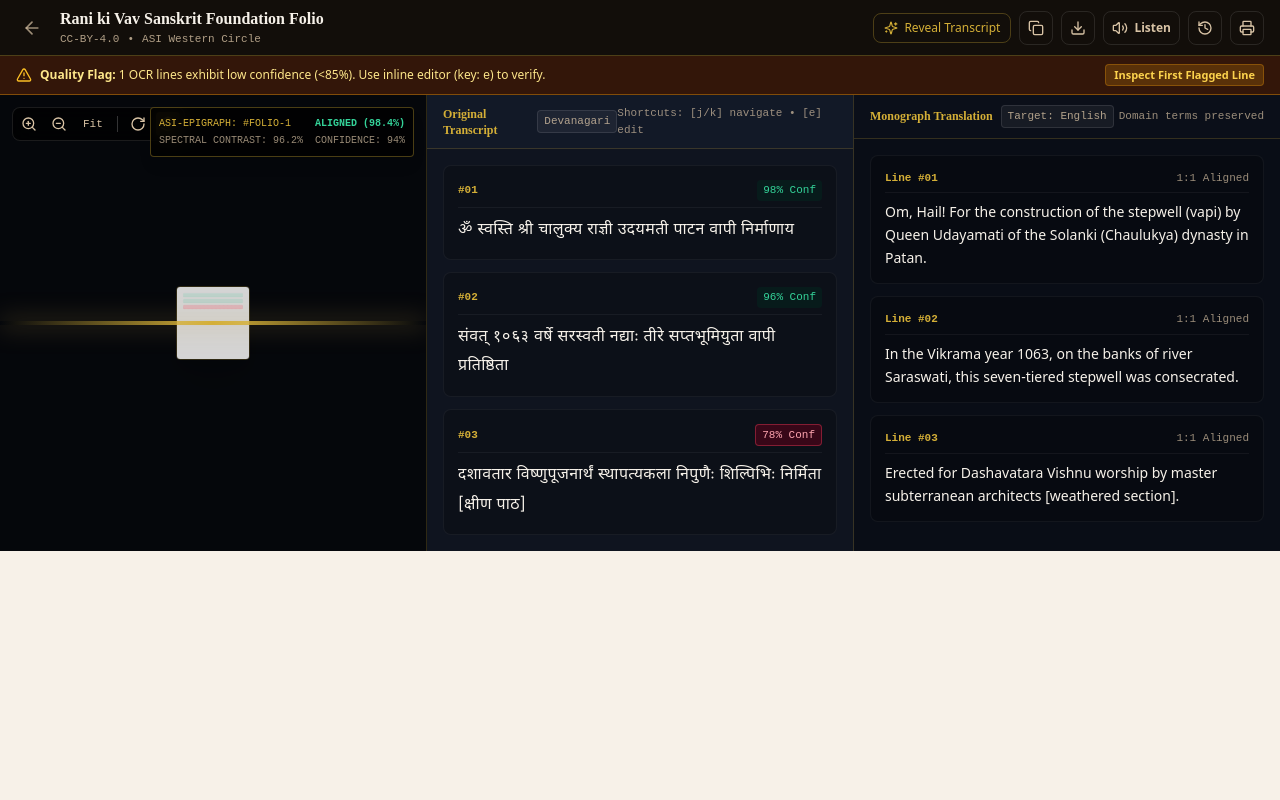
Test: M3: DocumentViewer Interactive Component & Bidirectional Linking › rolls back optimistic edit if the server patch fails
// Click line to select
Step 1. Click the text "ॐ स्वस्ति श्री चालुक्य राज्ञी उदयमती पाटन वापी निर्माणाय" → (626, 230), box [458,220,794,240]
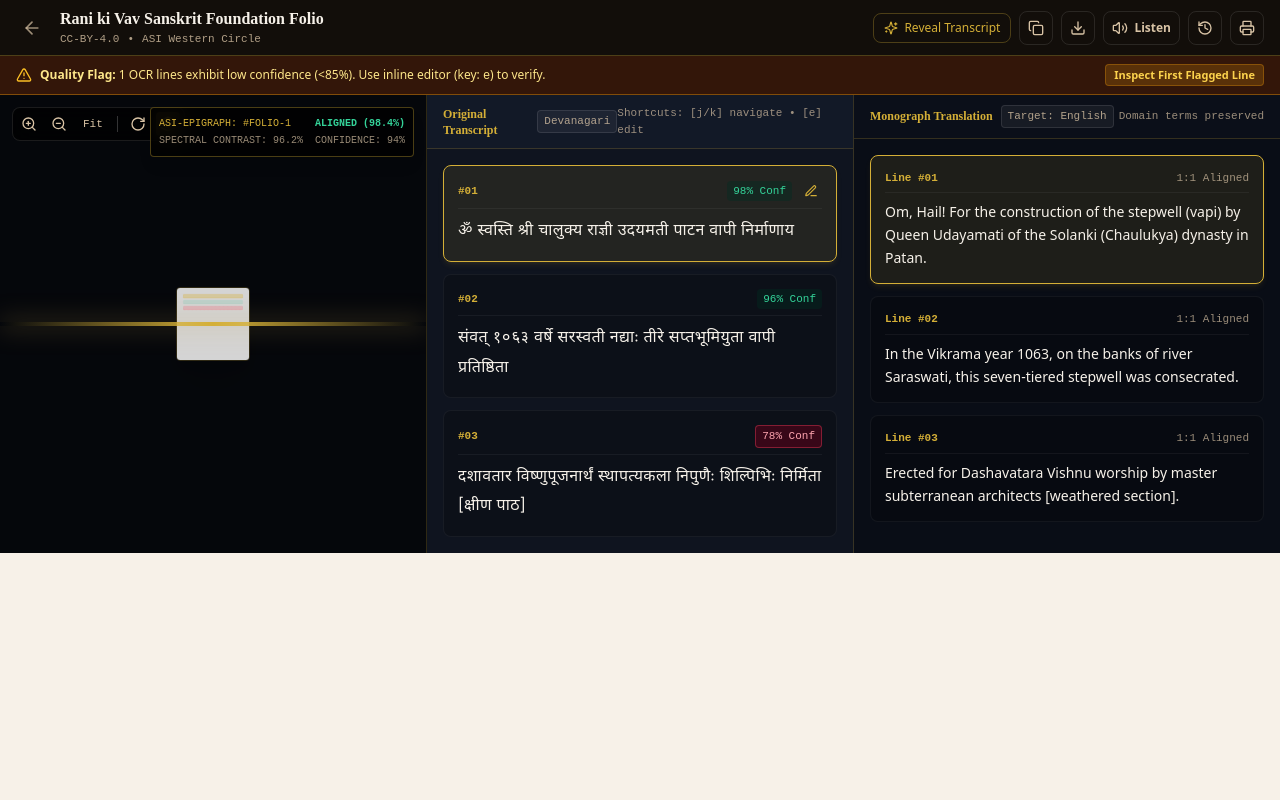
// Click edit button
Step 2. Click the button titled "Edit Line (Key: e)" → (811, 191), box [800,180,822,202]
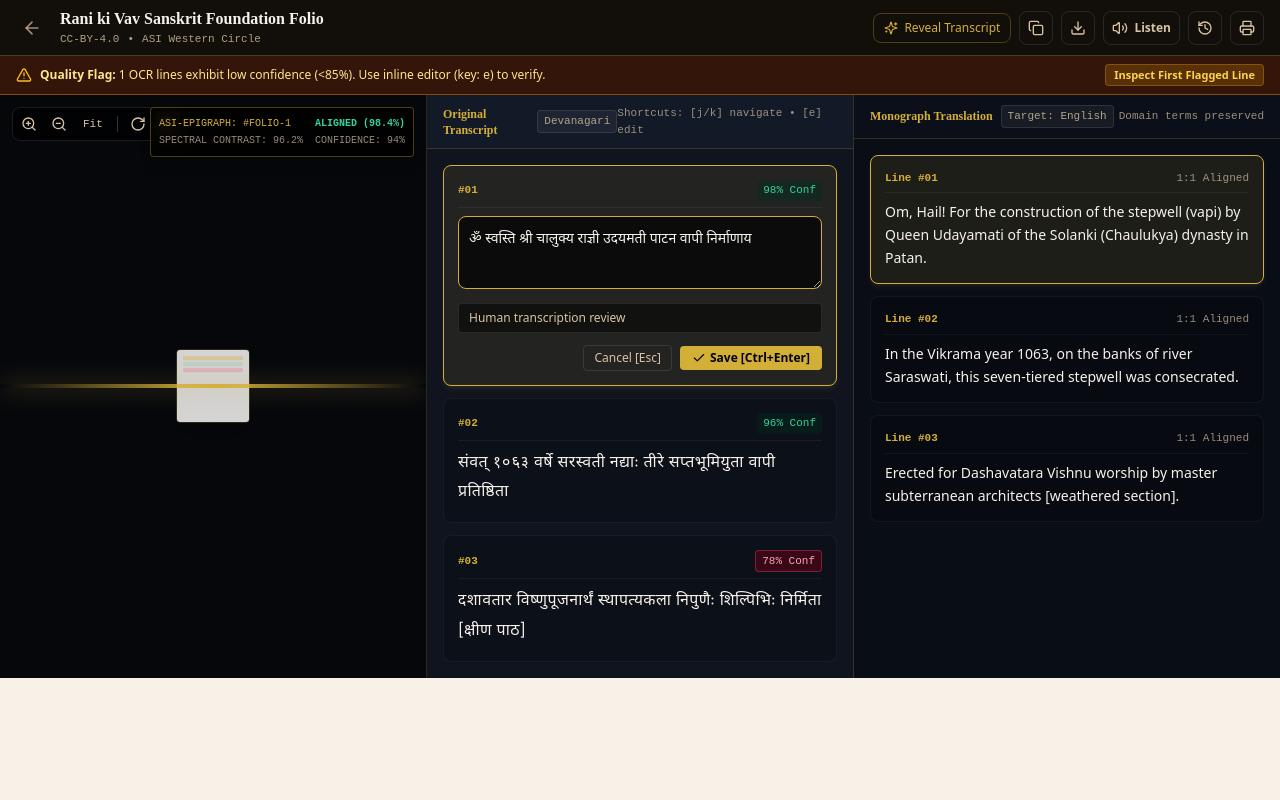
// Change text and save
Step 3. Replace the text in the text box with "Tentative edit that will fail" → (640, 252), box [458,216,822,289]
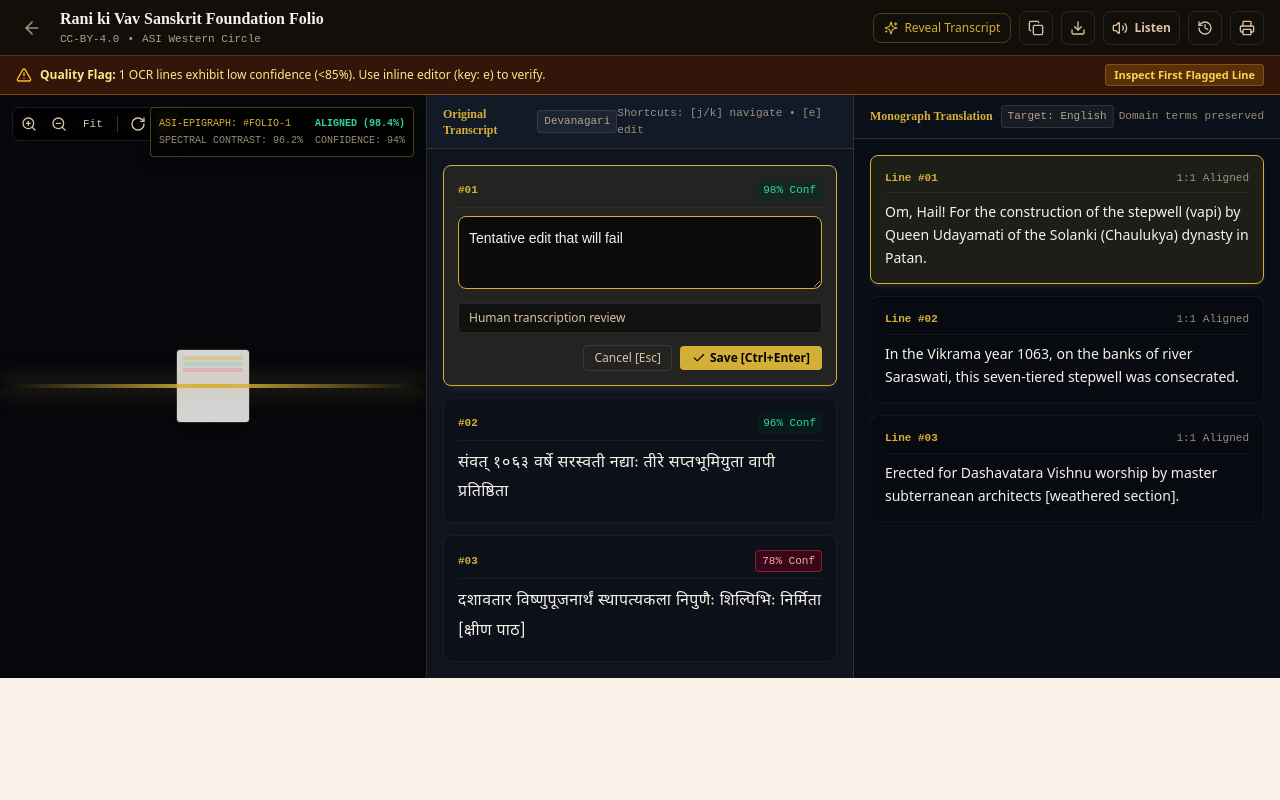
Step 4. Click the button "Save [Ctrl+Enter]" → (751, 358), box [680,346,822,370]
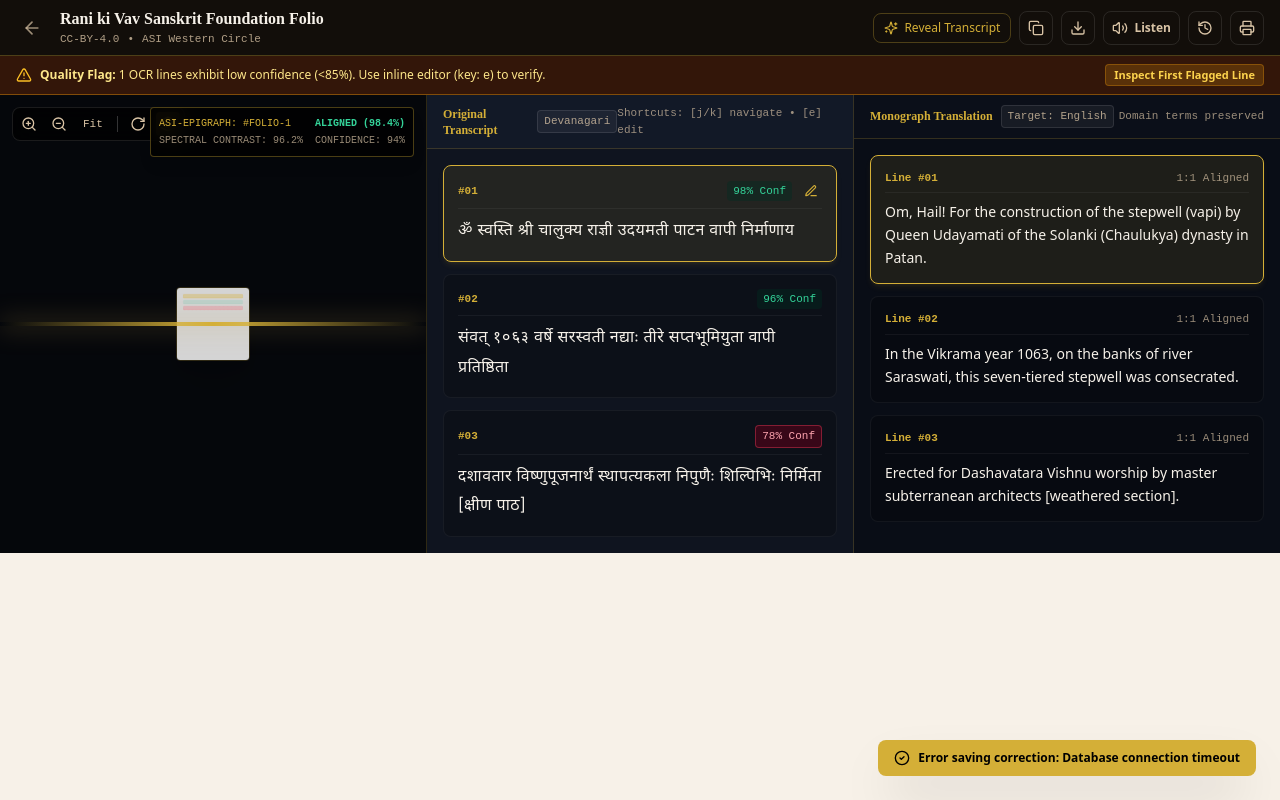
Expected: the text "ॐ स्वस्ति श्री चालुक्य राज्ञी उदयमती पाटन वापी निर्माणाय" is shown, [458,221,794,242]
